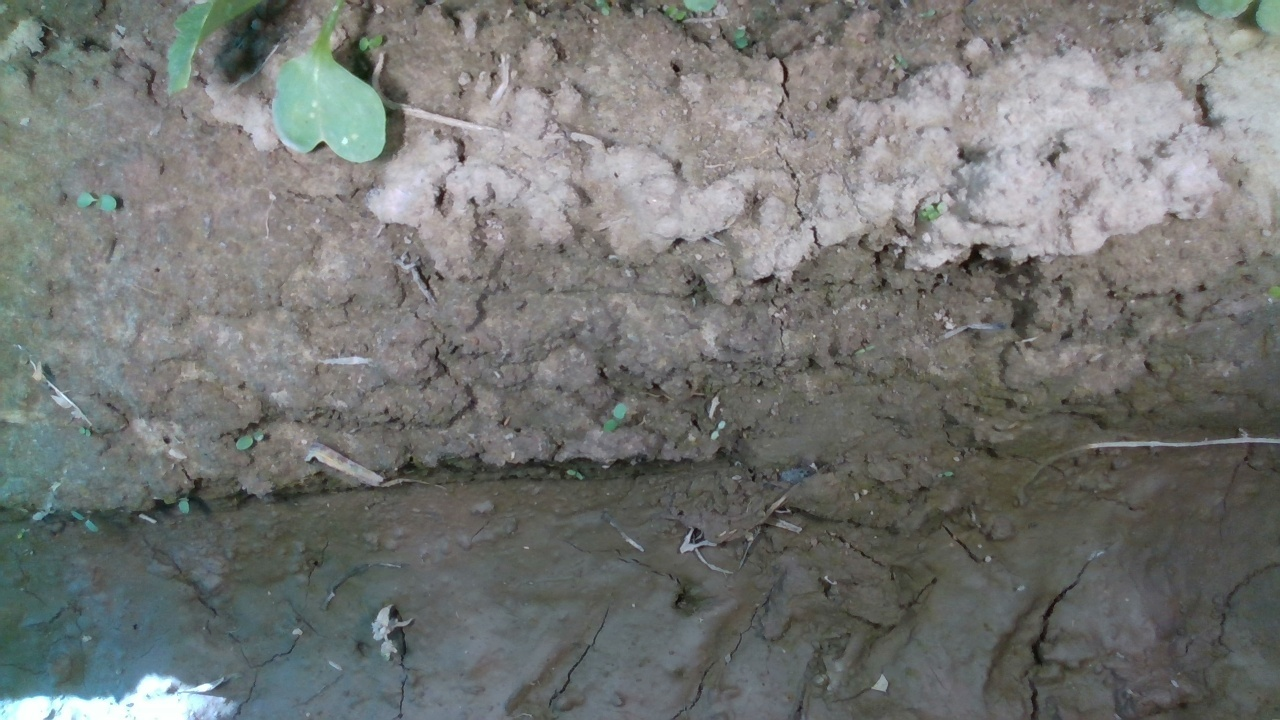weed: (229, 429, 273, 449)
